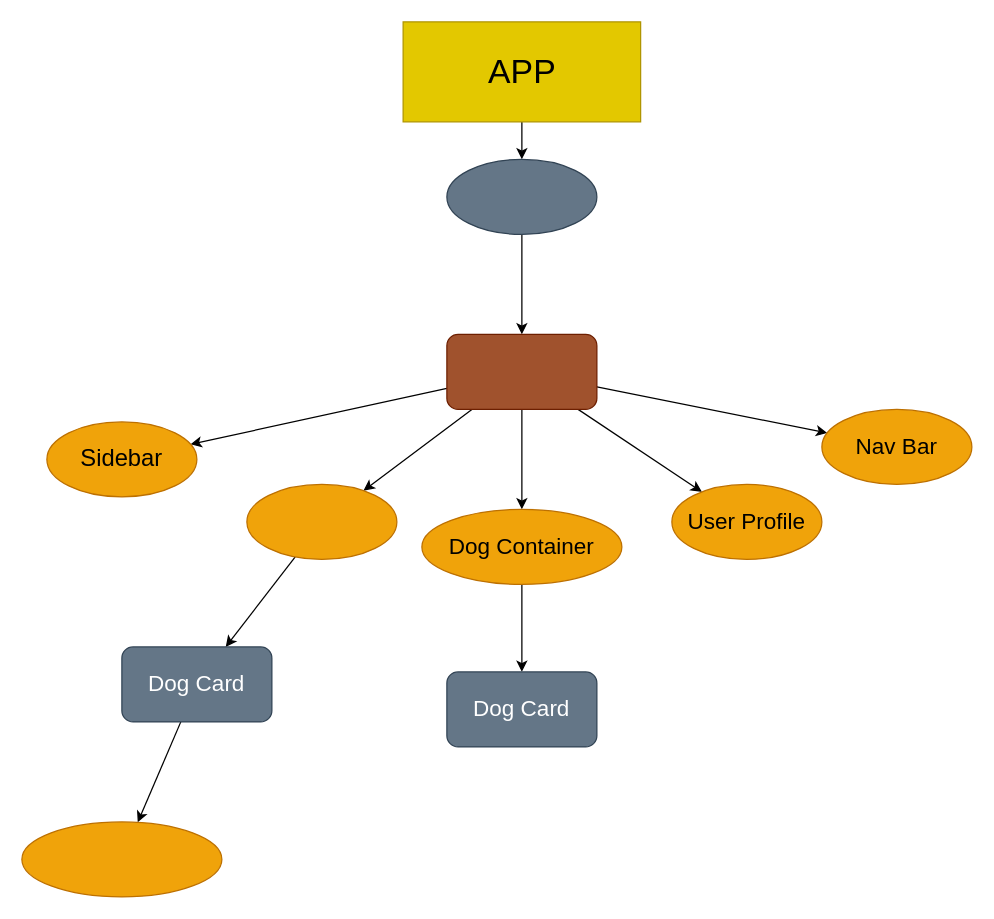
Some shapes in this 994 by 919 pixel diagram are drawn without their labels. Here are the shapes that lost their labels. From the top down, the box of each, then its label:
(446, 158, 597, 234): Landing Page
(446, 333, 597, 409): Home Page
(246, 483, 397, 559): Favorites
(21, 821, 222, 897): Comment Form
